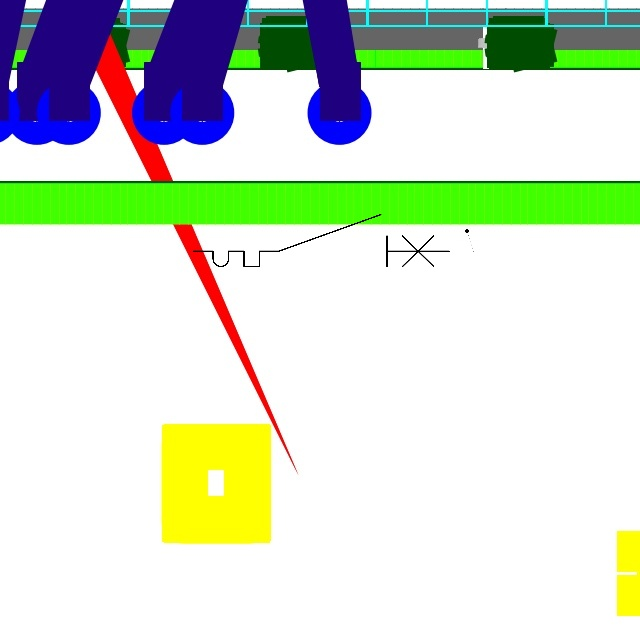interruptor_termomagnetico: (187, 208, 455, 273)
